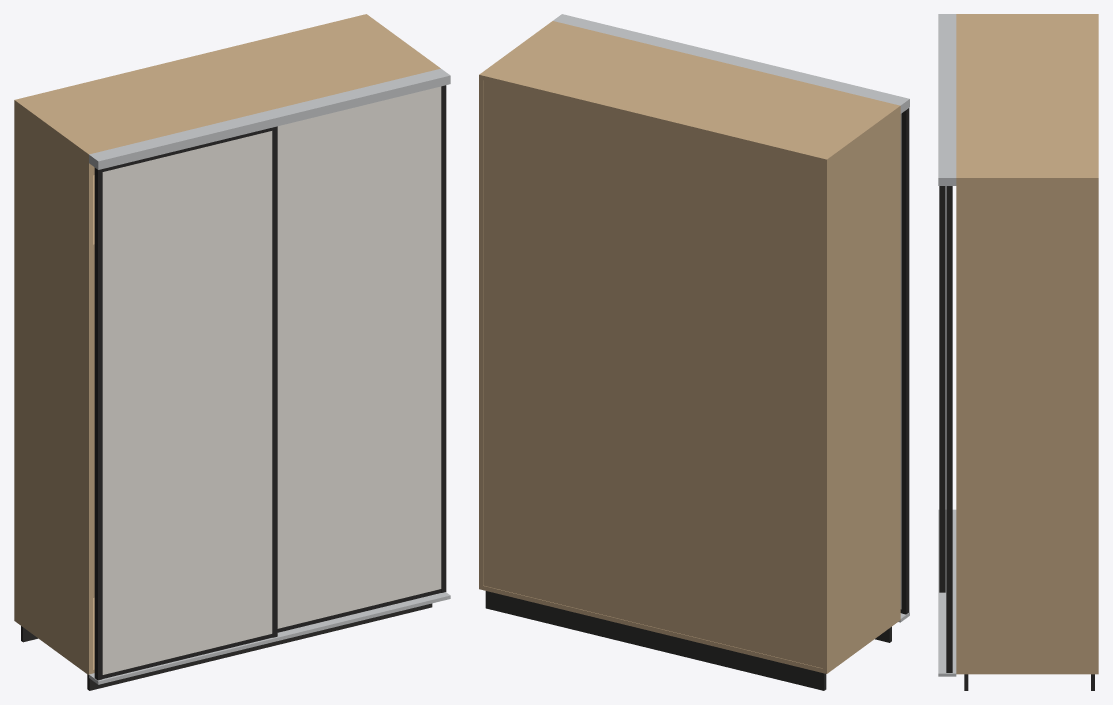
Rendered from 09_szafa_przesuwna_150.glb.
3 views of the same model, side by side, from view 1: azimuth 30°, elevation 25°; view 2: azimuth 150°, elevation 25°; view 3: azimuth 270°, elevation 25° (orthographic). The views are drawn at different scales.
Parts seen in each view (by area): view 1: Front_panel_1, Front_panel_2, Korpus, Uchwyty, Prowadnice, Cokol; view 2: Korpus, Cokol, Uchwyty, Prowadnice, Front_panel_1; view 3: Korpus, Uchwyty, Prowadnice.
Boxes of the visible parts, bbox=[...] form: Front_panel_1: bbox=[102, 131, 272, 674]; Front_panel_2: bbox=[277, 86, 441, 628]; Korpus: bbox=[14, 14, 440, 674]; Uchwyty: bbox=[94, 85, 446, 680]; Prowadnice: bbox=[89, 68, 450, 684]; Cokol: bbox=[21, 603, 432, 690]; Korpus: bbox=[479, 21, 900, 673]; Cokol: bbox=[485, 591, 891, 690]; Uchwyty: bbox=[900, 108, 909, 614]; Prowadnice: bbox=[553, 14, 909, 622]; Front_panel_1: bbox=[900, 113, 901, 609]; Korpus: bbox=[956, 14, 1098, 674]; Uchwyty: bbox=[939, 186, 952, 672]; Prowadnice: bbox=[938, 14, 956, 676].
Bounding box in the file's own units: 1.5 × 2.2 × 0.62.
